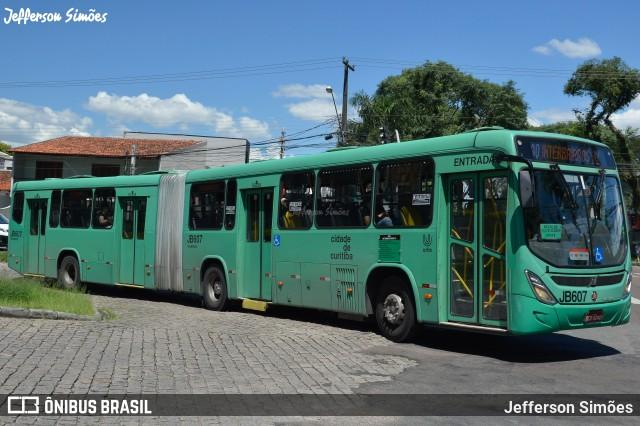INTERBAIRROS V: (538, 142, 604, 168)
